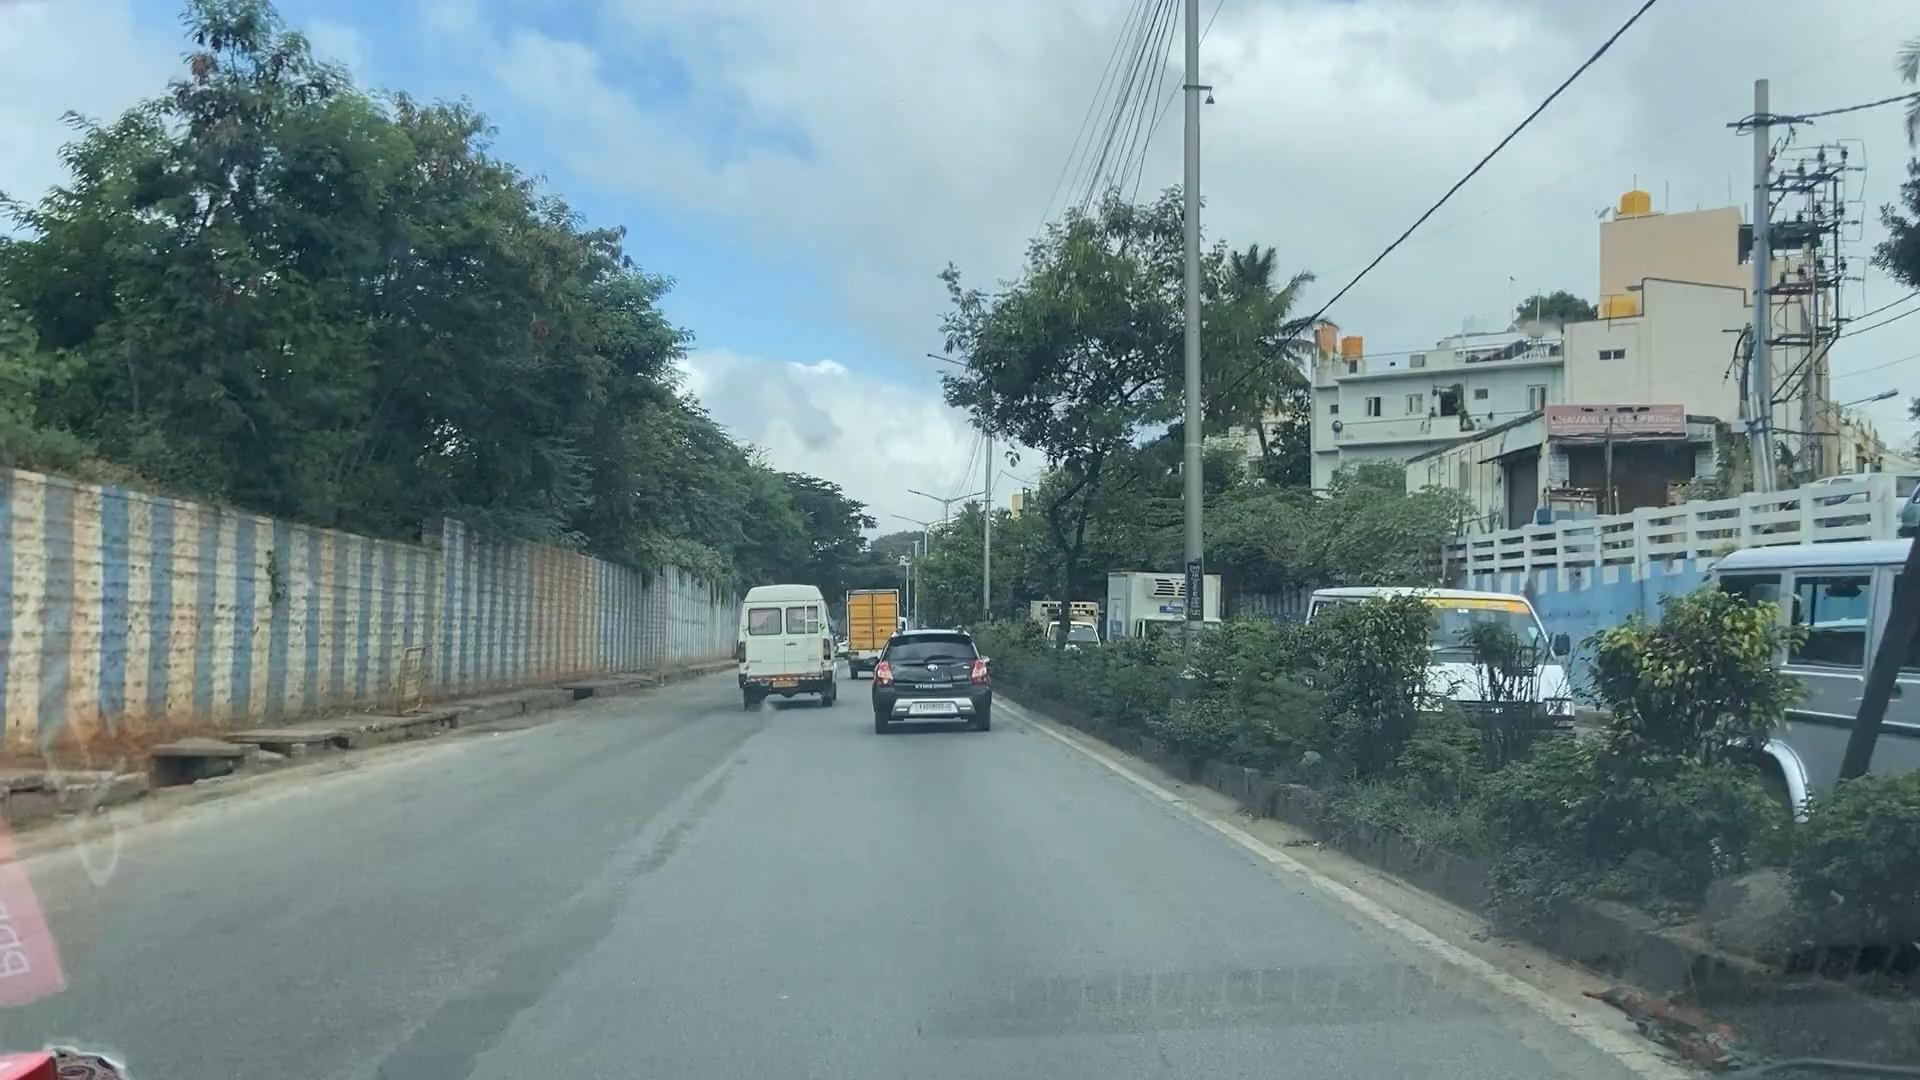HMV: (729, 582, 839, 711)
LMV: (872, 626, 994, 725)
UnsurfacedRoad: (369, 853, 676, 1080)
